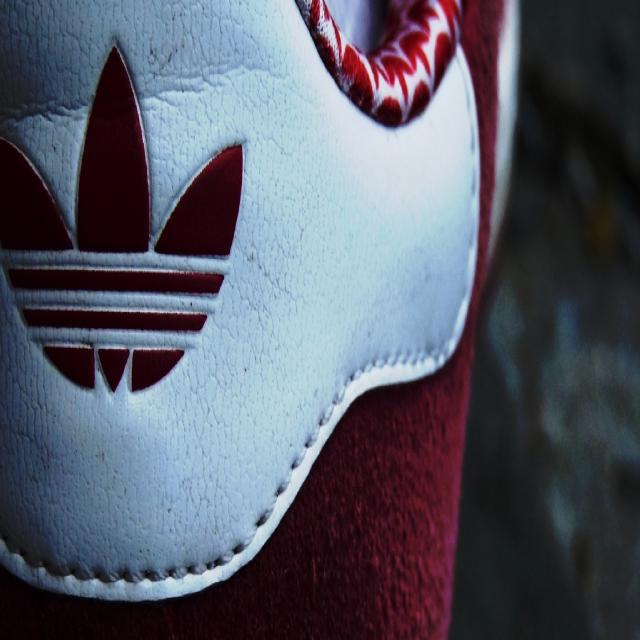adidas: (2, 42, 252, 399)
